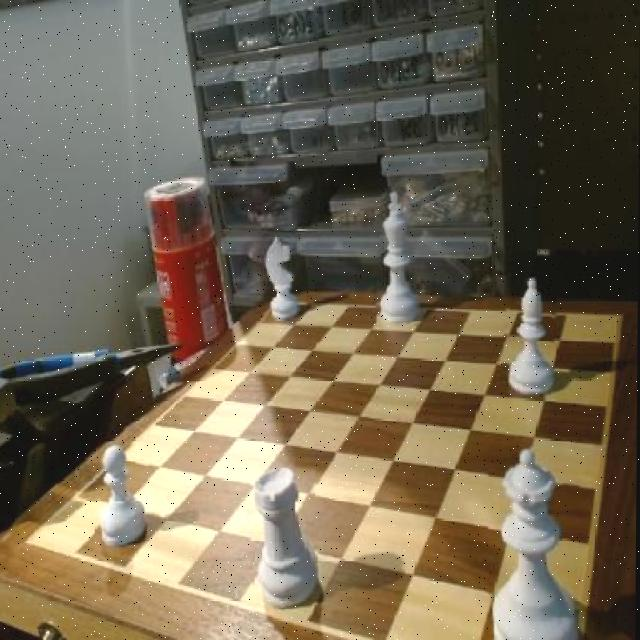black-rook: (502, 276, 557, 396)
white-bishop: (378, 188, 422, 325)
white-king: (265, 237, 299, 321)
white-knight: (94, 443, 148, 552)
white-pawn: (489, 445, 582, 639)
white-queen: (250, 468, 319, 617)
